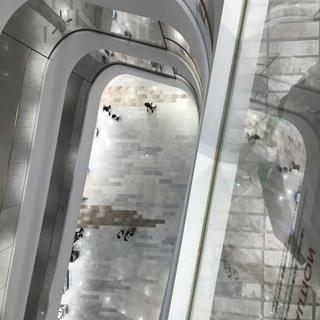person: (142, 93, 160, 118), (125, 229, 139, 245), (102, 104, 113, 117), (115, 227, 124, 240)
